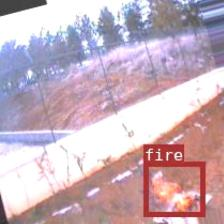fire: (143, 162, 204, 216)
